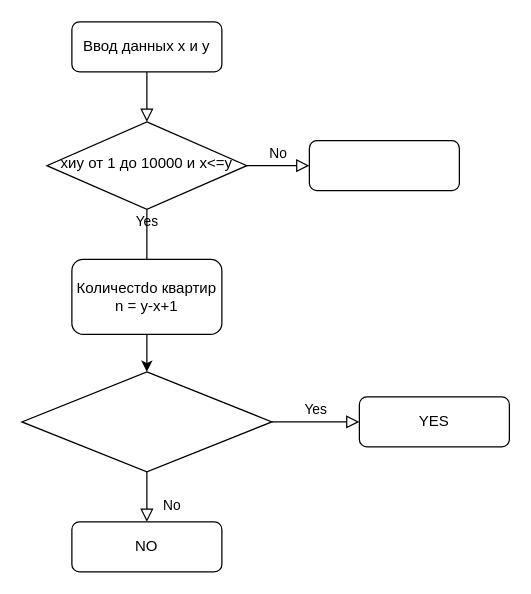
This 531x594 diagram has some shape labels left out. Each missing label, with the centre of its shape:
"Ошибка" goes at (383,165).
"проверка на лишние квартиры (x-1)%n == 0" goes at (146,421).
